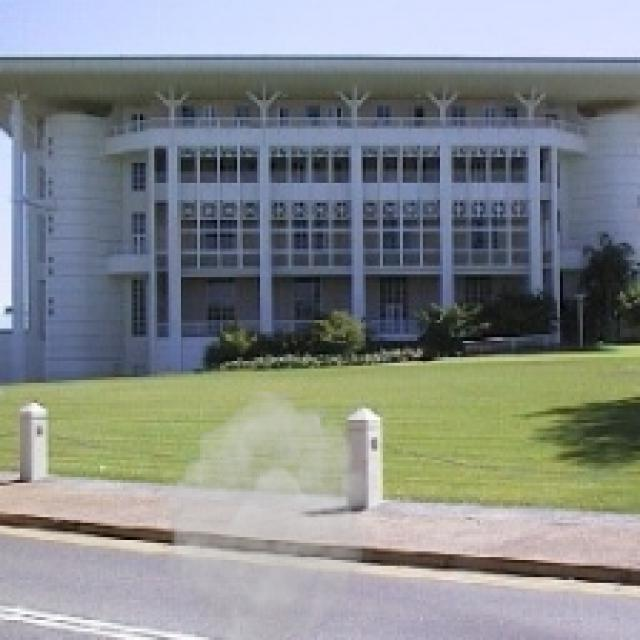smoke: (151, 392, 383, 637)
